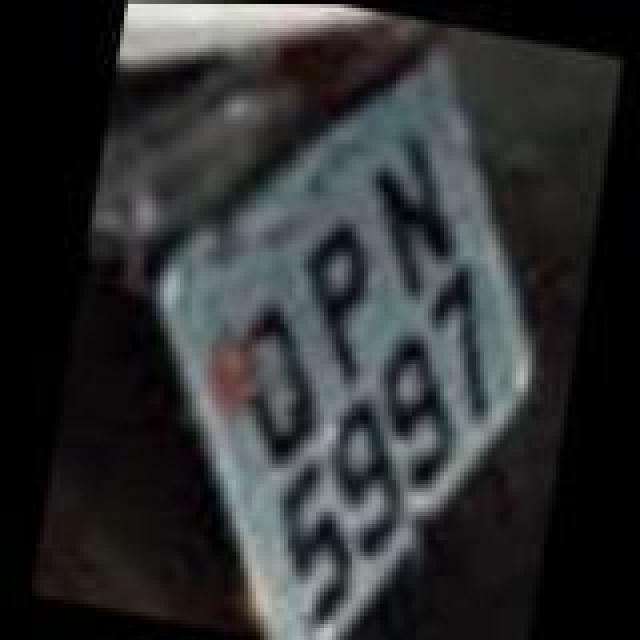5: (260, 460, 368, 628)
7: (408, 268, 512, 424)
9: (354, 326, 470, 490), (312, 392, 420, 560)
N: (344, 122, 476, 302)
O: (216, 300, 336, 468)
P: (282, 216, 382, 384)
